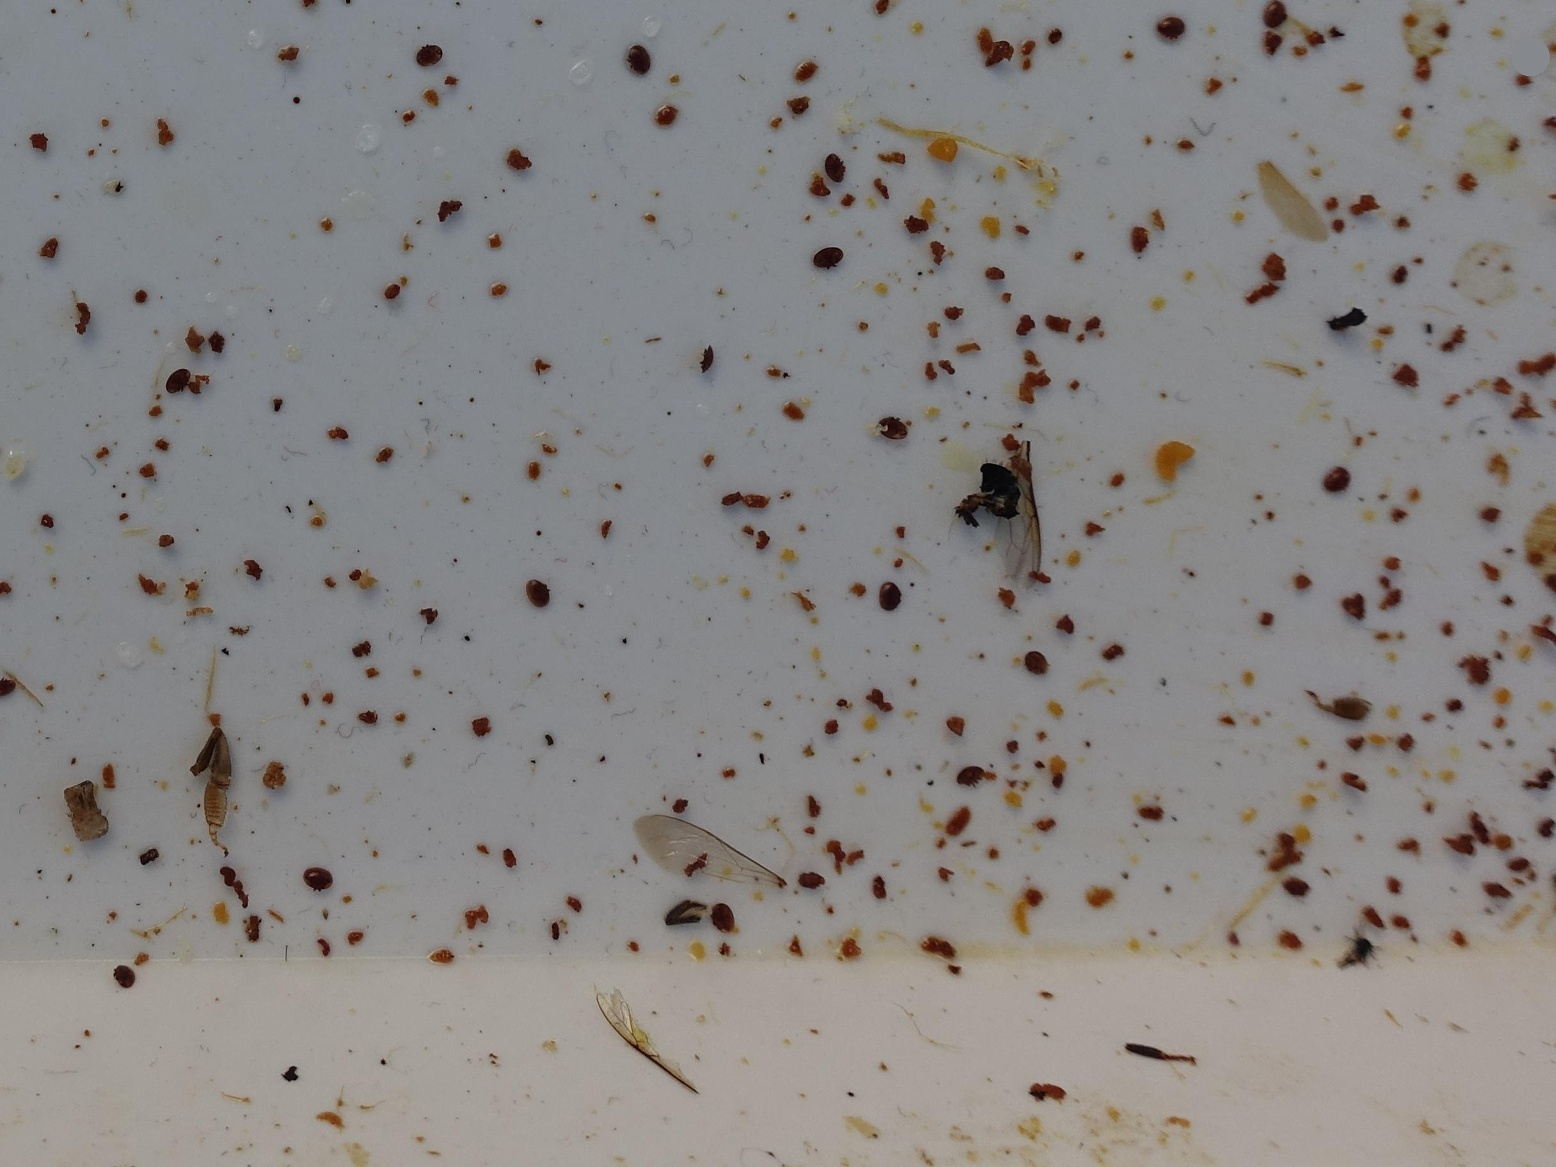Varroa: (1260, 4, 1286, 29), (693, 346, 720, 371), (1027, 652, 1051, 675), (823, 156, 845, 179), (885, 418, 907, 441), (820, 246, 842, 270), (961, 765, 981, 786), (713, 906, 734, 927), (116, 965, 136, 986), (168, 370, 187, 391), (632, 51, 652, 71), (418, 43, 437, 63), (1331, 467, 1349, 488), (882, 583, 901, 604), (310, 869, 328, 888), (1164, 17, 1182, 36), (531, 582, 549, 599)
